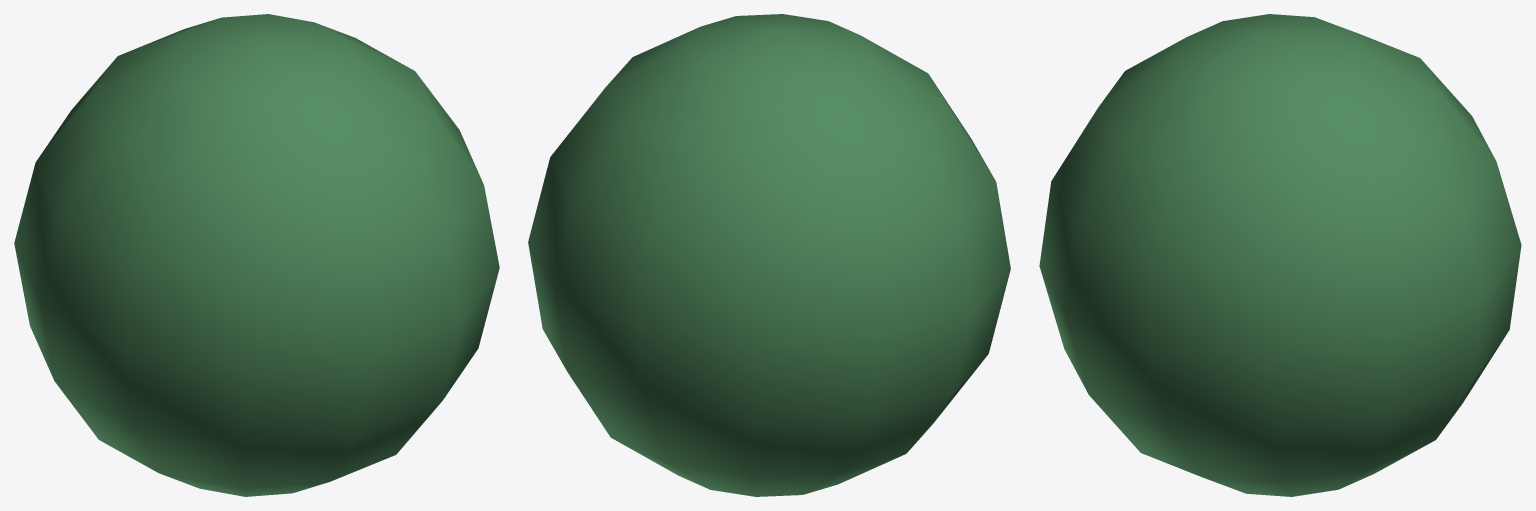
3 renders of one model, left to right at view 1: azimuth 30°, elevation 25°; view 2: azimuth 150°, elevation 25°; view 3: azimuth 270°, elevation 25°, orthographic.
Visible parts, largest first — view 1: 右侧腔隙淋巴结内侧组; view 2: 右侧腔隙淋巴结内侧组; view 3: 右侧腔隙淋巴结内侧组.
Boxes of the visible parts, x1=… form: 右侧腔隙淋巴结内侧组: x1=14, y1=14, x2=499, y2=496; 右侧腔隙淋巴结内侧组: x1=528, y1=14, x2=1010, y2=496; 右侧腔隙淋巴结内侧组: x1=1039, y1=14, x2=1521, y2=496.
Size of the model in its own units: 0.00383 by 0.00382 by 0.00382.
